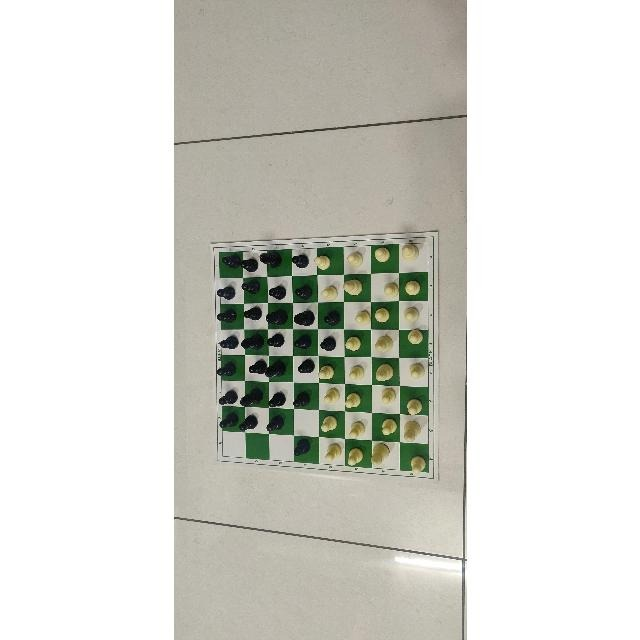black-bishop: (259, 248, 283, 270), (263, 308, 287, 330), (238, 386, 263, 407), (292, 308, 316, 328), (240, 333, 264, 352), (264, 360, 286, 380)
black-pawn: (264, 413, 285, 433), (215, 307, 238, 325), (217, 360, 237, 380), (220, 252, 241, 271), (217, 387, 237, 406), (218, 411, 238, 430), (289, 252, 310, 270), (219, 332, 238, 351), (295, 357, 314, 376), (241, 278, 261, 296), (216, 284, 236, 302), (293, 333, 313, 351), (265, 332, 285, 350), (237, 414, 259, 430), (292, 284, 315, 299), (323, 308, 341, 327), (318, 335, 337, 353), (242, 305, 262, 322), (293, 390, 311, 408), (248, 359, 266, 377), (291, 439, 310, 456), (267, 284, 287, 300), (266, 391, 286, 407), (239, 260, 257, 272)
white-bishop: (368, 443, 390, 467), (401, 420, 421, 444), (374, 361, 394, 382), (373, 333, 393, 354), (341, 278, 363, 296), (400, 243, 420, 262)
white-pawn: (318, 413, 339, 433), (407, 453, 427, 474), (378, 416, 397, 438), (322, 443, 342, 463), (316, 363, 335, 383), (406, 361, 426, 380), (346, 446, 364, 467), (313, 254, 333, 272), (347, 420, 365, 440), (319, 285, 338, 303), (322, 386, 340, 405), (404, 398, 423, 416), (402, 306, 421, 324), (344, 251, 363, 269), (402, 279, 421, 297), (380, 280, 398, 299), (347, 364, 367, 381), (343, 390, 361, 408), (379, 387, 397, 405), (373, 306, 391, 324), (404, 328, 423, 345), (344, 335, 361, 353), (354, 309, 370, 326), (373, 247, 390, 263)
